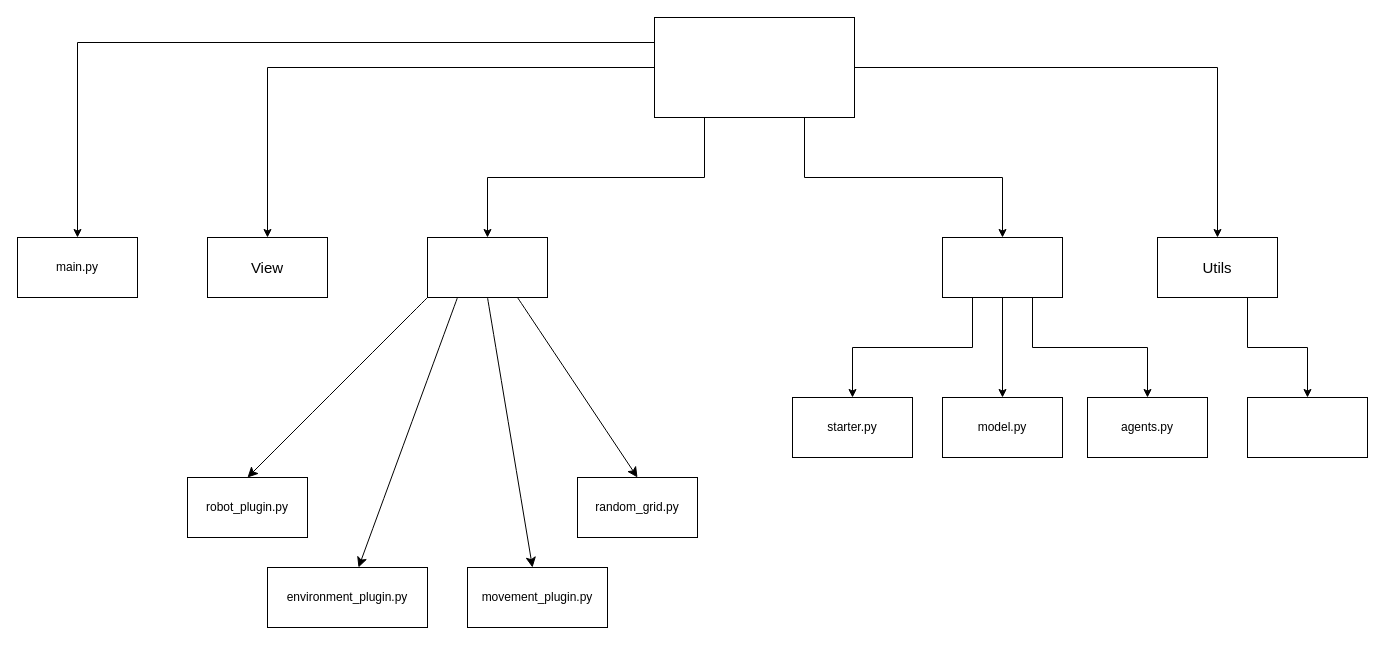
This 1385x645 diagram has some shape labels left out. The box of each missing label's shape, as (x1, y1, x2, y2) in pixels:
Controller: (426, 236, 548, 298)
Model: (942, 236, 1062, 298)
SMARTERS: (654, 16, 854, 118)
utils.py: (1246, 396, 1368, 458)
